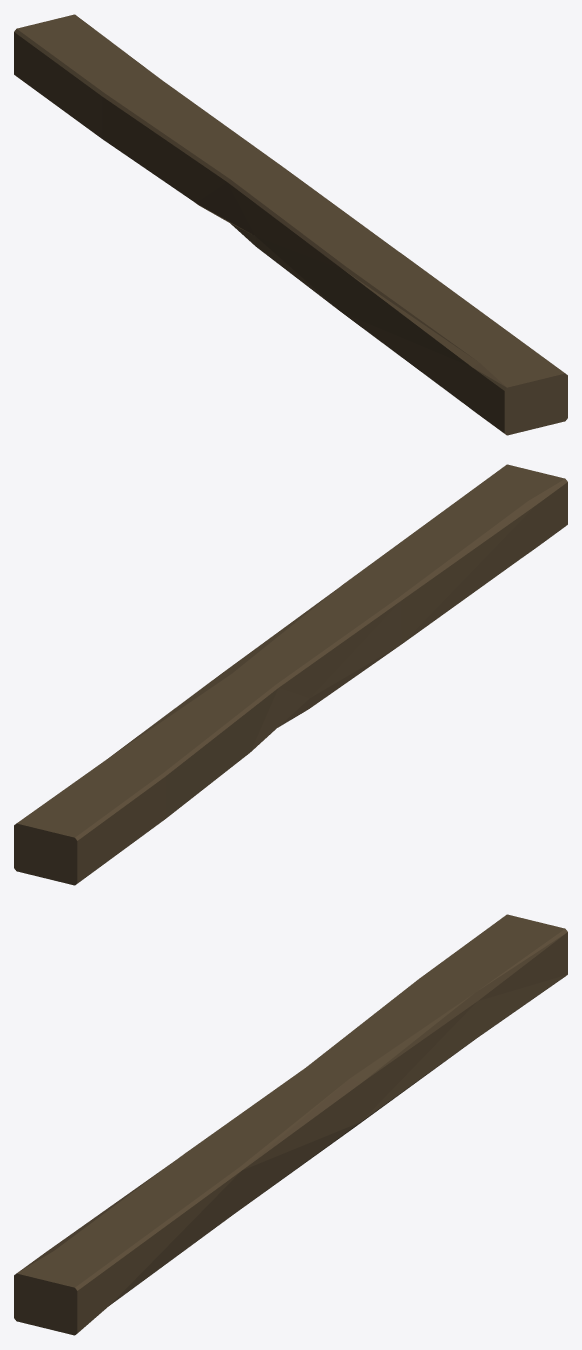
The model's file is model_wood_block.fbx.
The picture shows the model from 3 angles, top to bottom: view 1: azimuth 30°, elevation 25°; view 2: azimuth 150°, elevation 25°; view 3: azimuth 330°, elevation 25°; orthographic projection.
Parts seen in each view (by area): view 1: model_wood_block; view 2: model_wood_block; view 3: model_wood_block.
Part boxes in pixels (x1=…): model_wood_block: x1=14, y1=14, x2=567, y2=435; model_wood_block: x1=14, y1=464, x2=567, y2=885; model_wood_block: x1=14, y1=914, x2=567, y2=1335.
Size of the model in its own units: 22.4 by 16.15 by 300.
1 material, 1 textured.
